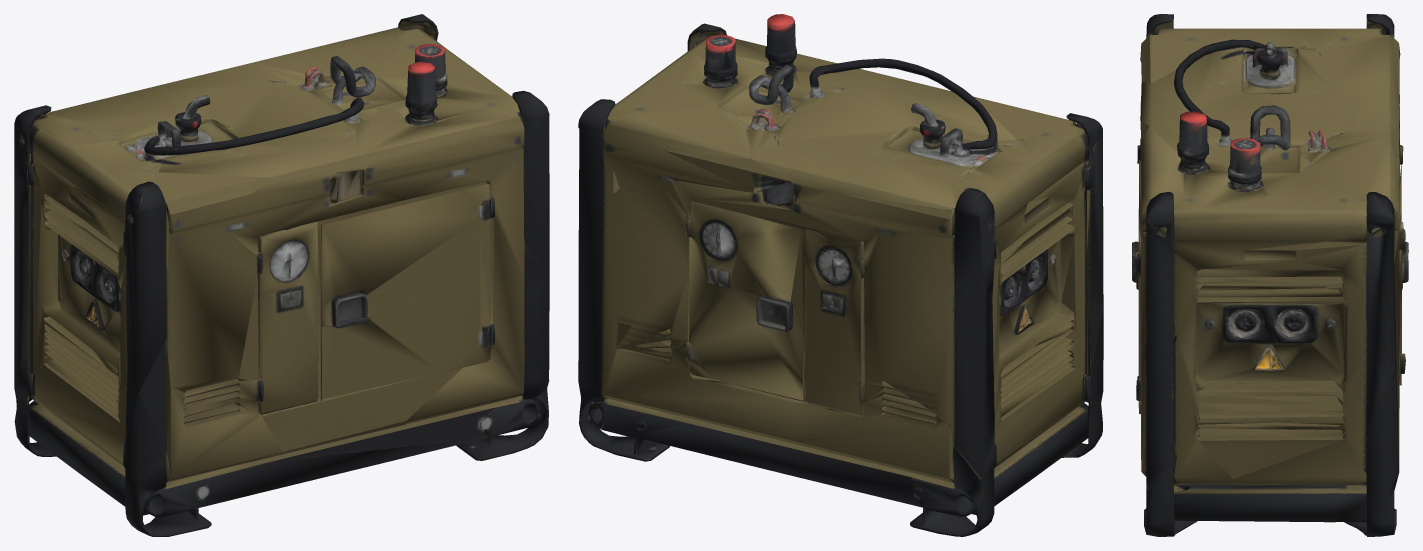
File: generator.glb
3 renders of one model, left to right at view 1: azimuth 30°, elevation 25°; view 2: azimuth 150°, elevation 25°; view 3: azimuth 270°, elevation 25°, orthographic. The views are drawn at different scales.
Parts seen in each view (by area): view 1: output_unwrapped; view 2: output_unwrapped; view 3: output_unwrapped.
Part boxes in pixels (bbox=[...]): output_unwrapped: bbox=[14, 14, 549, 536]; output_unwrapped: bbox=[578, 14, 1103, 536]; output_unwrapped: bbox=[1132, 14, 1408, 536].
Size of the model in its own units: 0.4478 by 0.4 by 0.2655.
Materials: 1 (1 with a texture image).
